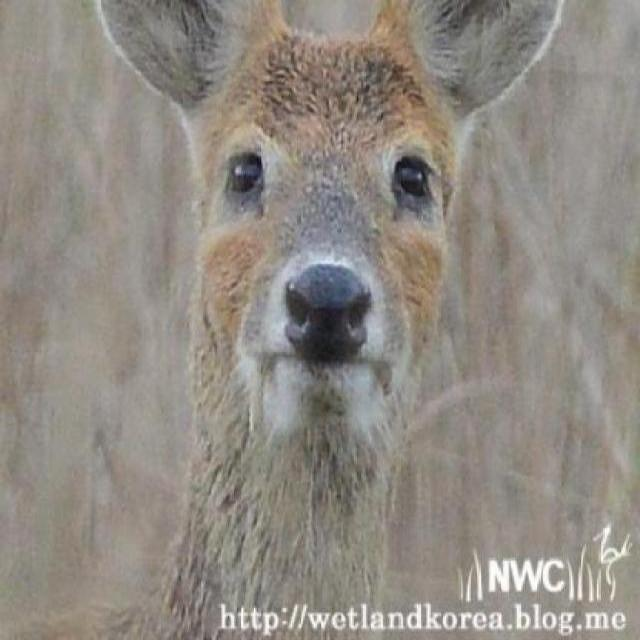deer: (82, 0, 564, 531)
